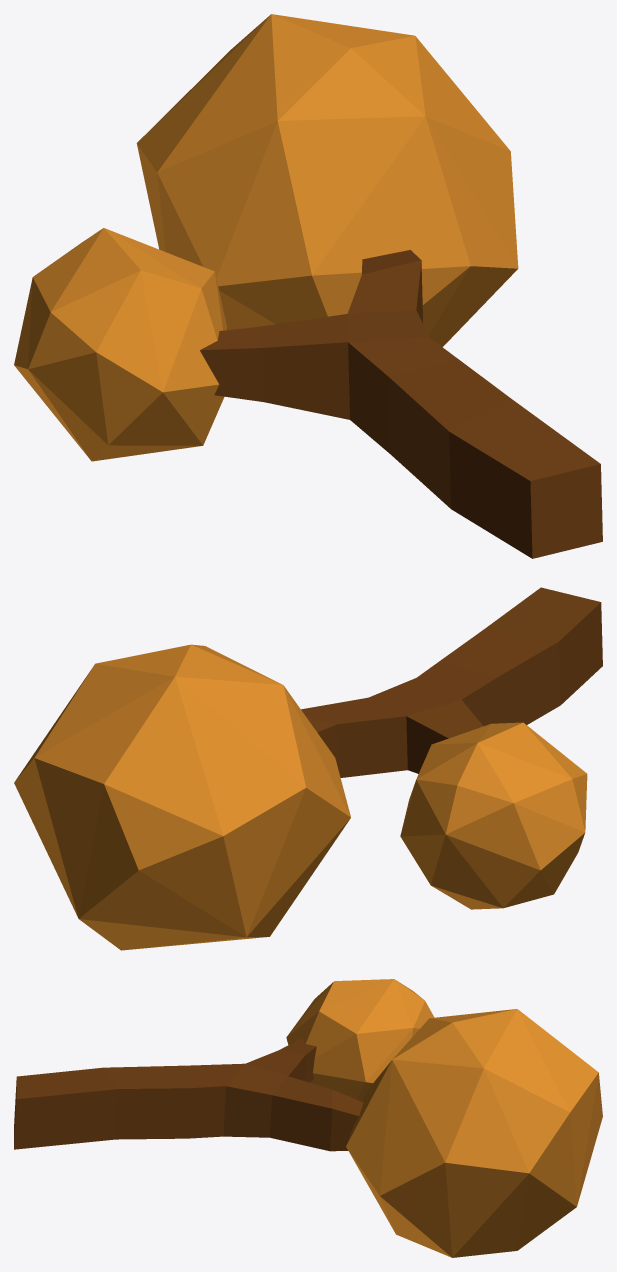
File: Tree2.fbx
3 views of the same model, one above another, from view 1: azimuth 30°, elevation 25°; view 2: azimuth 150°, elevation 25°; view 3: azimuth 270°, elevation 25° (orthographic). The views are drawn at different scales.
Visible parts, largest first — view 1: Icosphere.004; view 2: Icosphere.004; view 3: Icosphere.004.
Part boxes in pixels (x1,y1,x2,y2): Icosphere.004: (14, 14, 602, 558); Icosphere.004: (14, 587, 602, 950); Icosphere.004: (14, 979, 602, 1257).
Size of the model in its own units: 0.8 by 0.4692 by 1.13.
